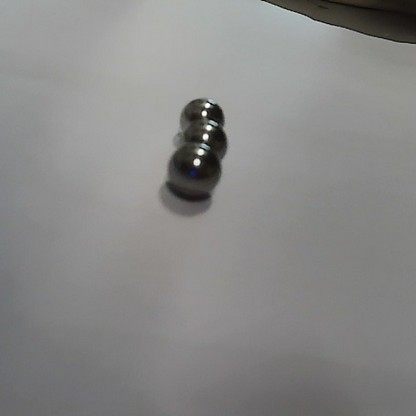ironball: (164, 141, 224, 199), (179, 121, 233, 151), (180, 95, 227, 126)
